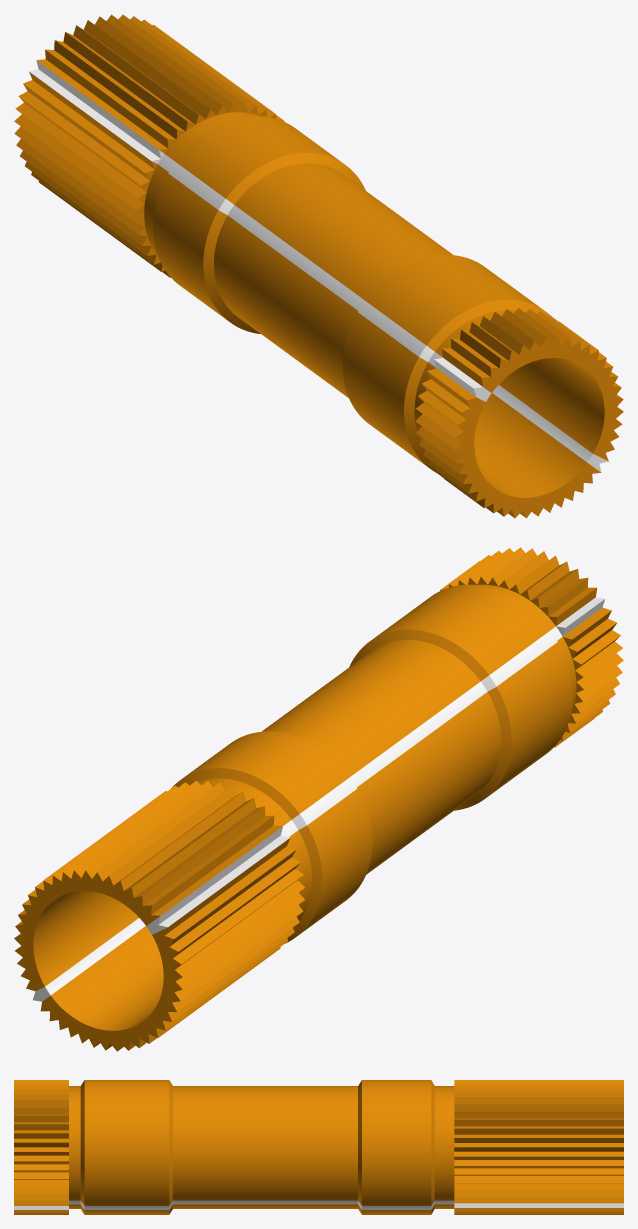
The picture shows the model from 3 angles, top to bottom: view 1: azimuth 30°, elevation 25°; view 2: azimuth 150°, elevation 25°; view 3: azimuth 270°, elevation 25°; orthographic projection. The views are drawn at different scales.
Parts seen in each view (by area): view 1: 689; view 2: 689; view 3: 689.
Part boxes in pixels (x1=…): 689: x1=14, y1=14, x2=623, y2=518; 689: x1=14, y1=547, x2=623, y2=1051; 689: x1=14, y1=1080, x2=623, y2=1214.
Size of the model in its own units: 350 by 350 by 1583.
